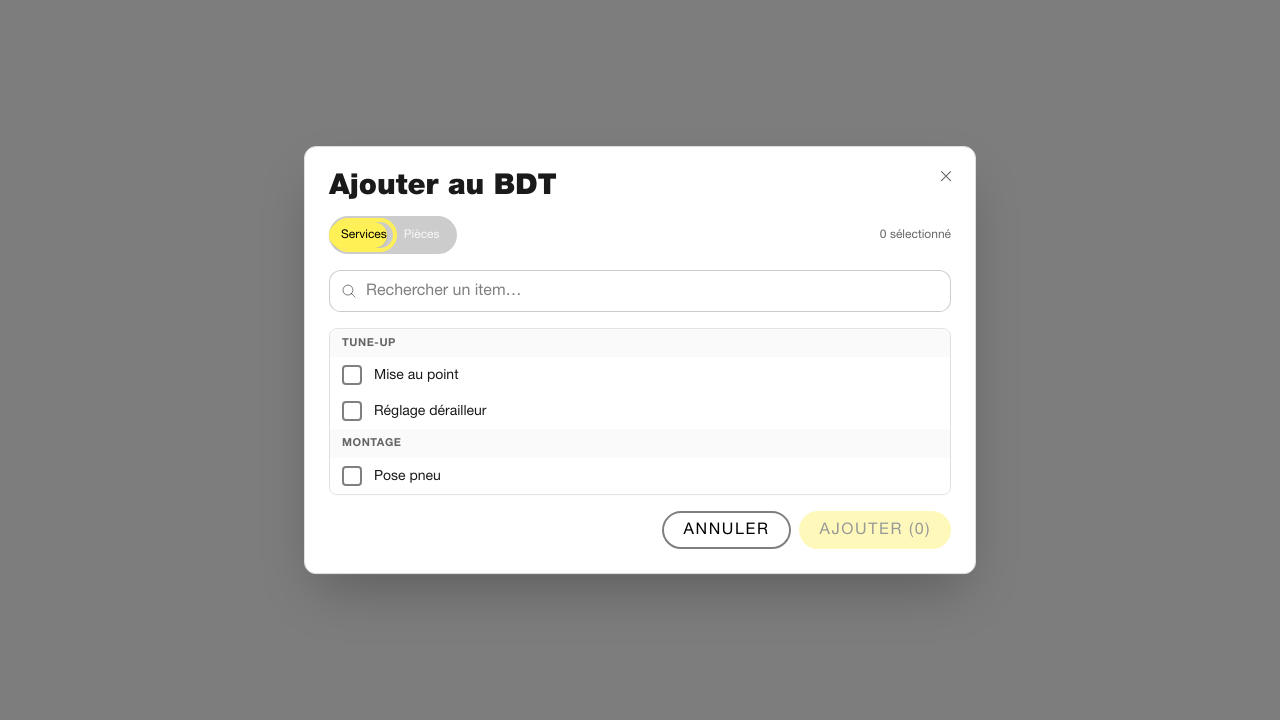
Test: AjoutItemsModal › re-toggle item coché → décocher
The width and height of the screenshot is (1280, 720).
Click the checkbox labelled "Mise au point".
click(352, 375)  # box [342,365,362,385]
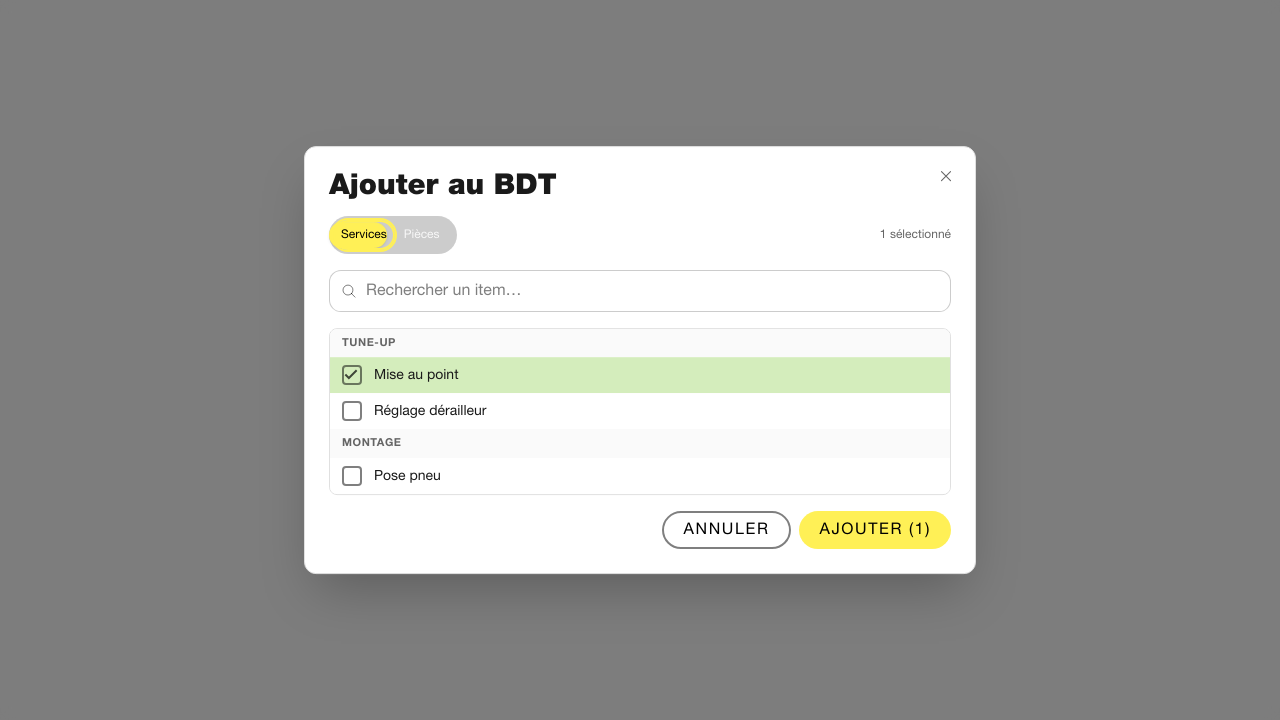
Check: the text "1 sélectionné" is shown, box [880,227,951,243]
Click the checkbox labelled "Mise au point".
click(352, 375)  # box [342,365,362,385]
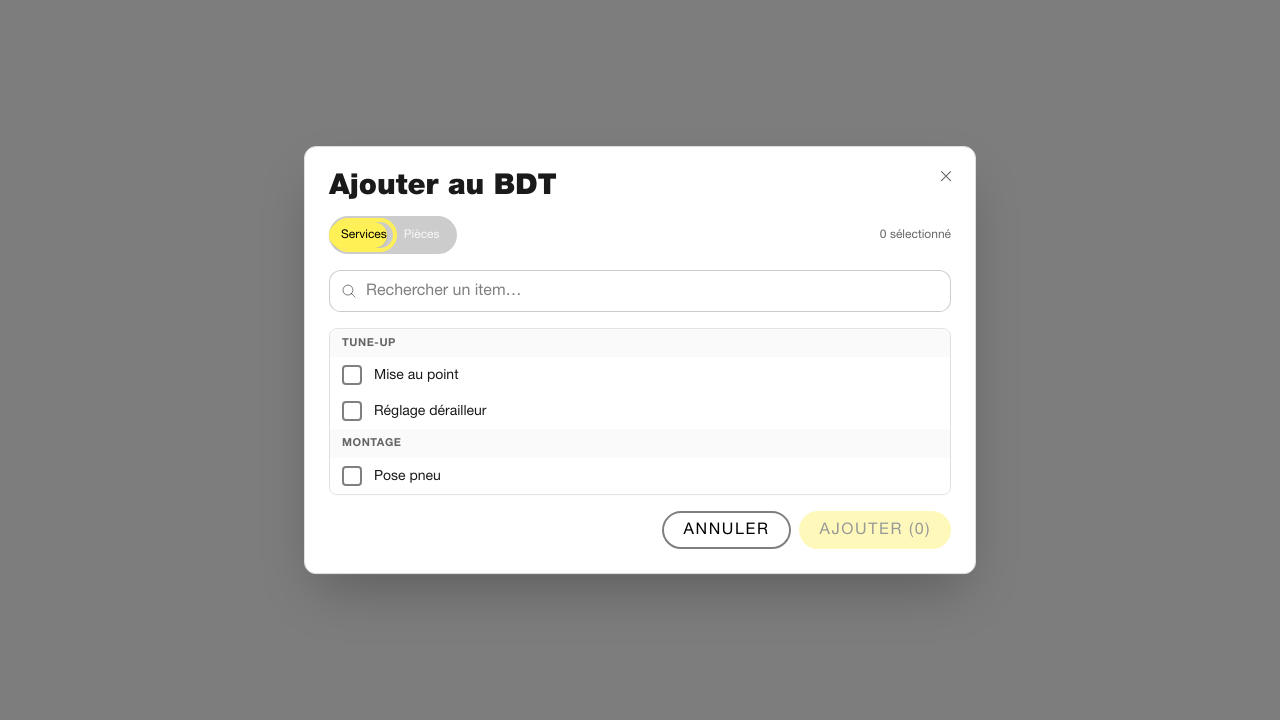
Check: the text "0 sélectionné" is shown, box [880,227,951,243]
